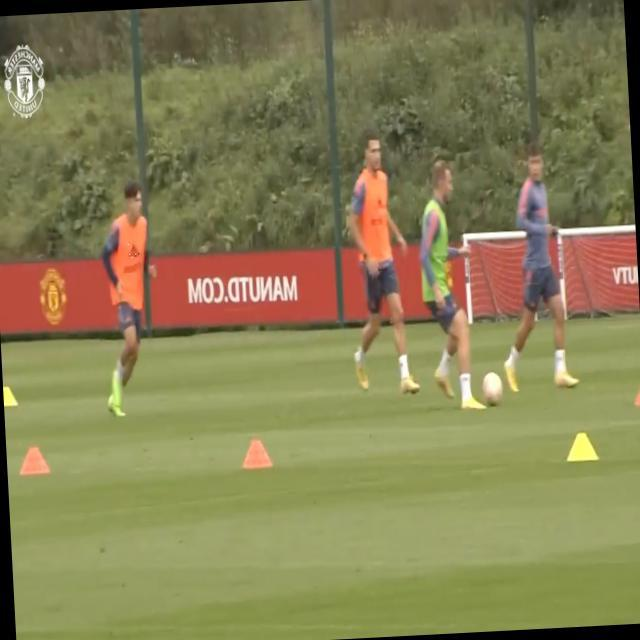Adidas: (128, 243, 139, 258)
